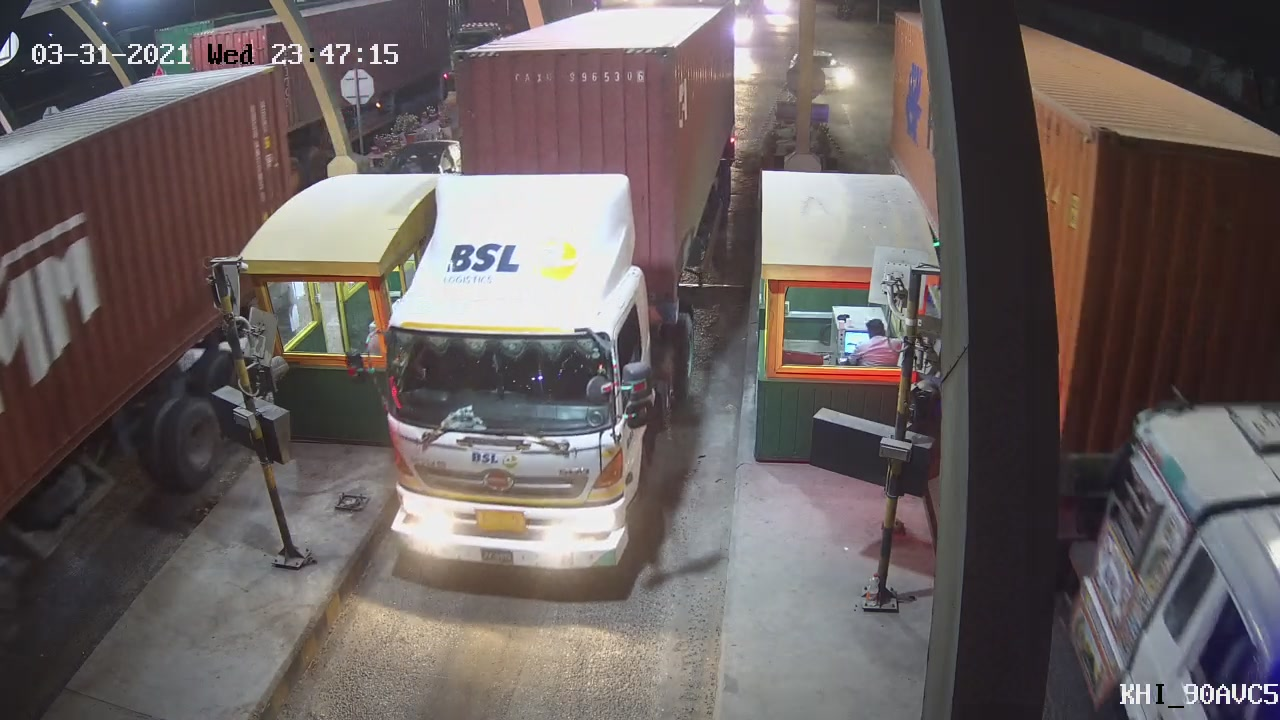F6: (355, 1, 743, 613)
